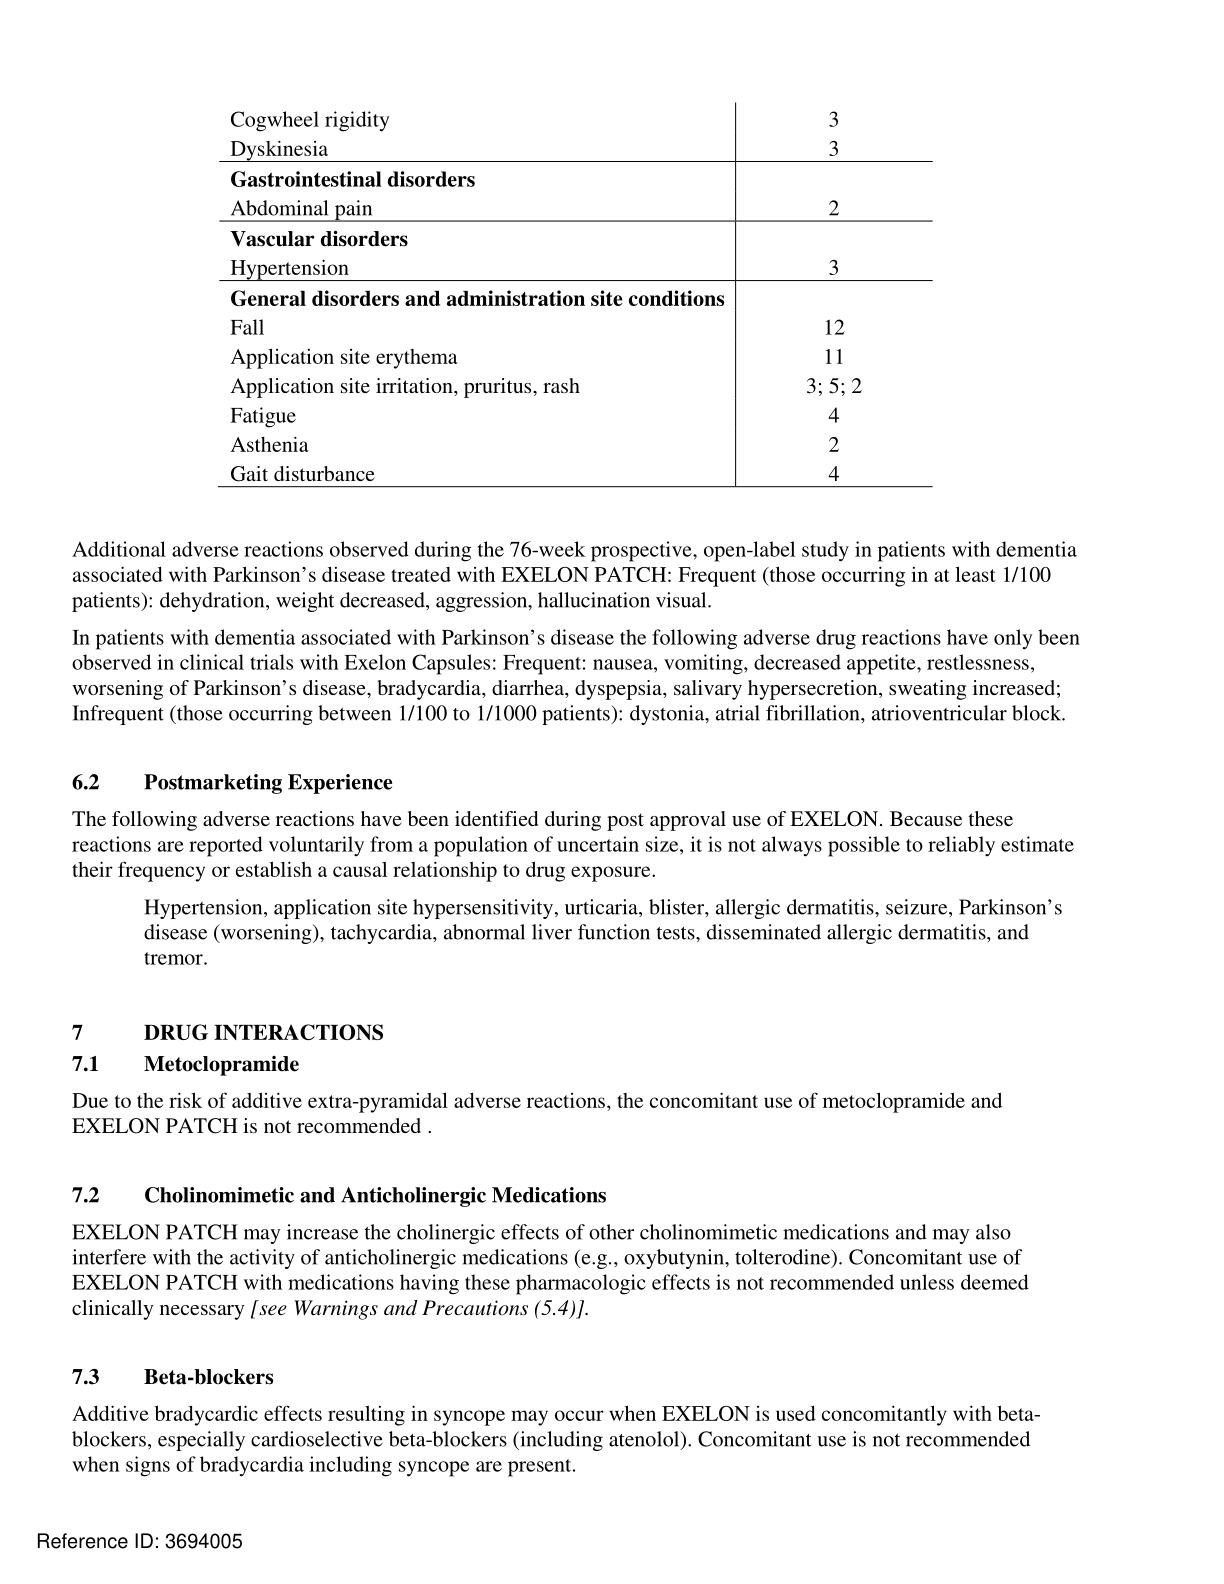partial_lined: (217, 102, 932, 489)
